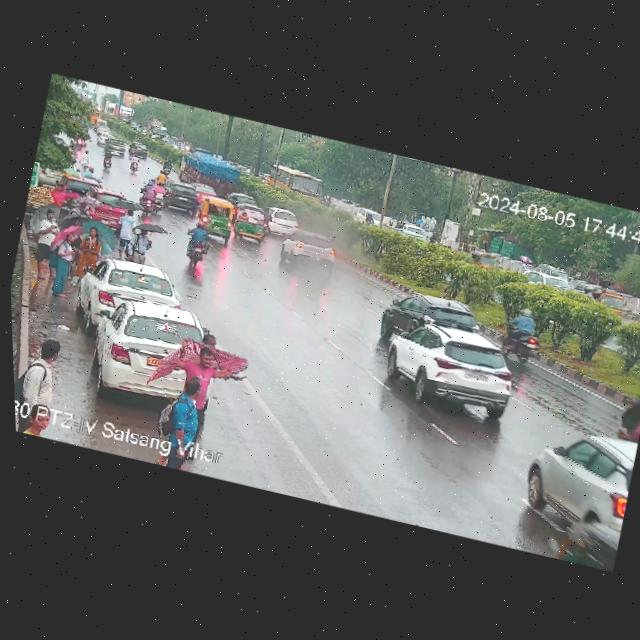bus: (267, 163, 326, 200)
car: (369, 312, 529, 428), (512, 415, 640, 538), (79, 293, 204, 404), (370, 283, 498, 359), (78, 250, 184, 330), (270, 224, 341, 273), (193, 192, 247, 241), (76, 185, 137, 228), (574, 283, 627, 318), (230, 202, 267, 243), (163, 175, 201, 212), (264, 209, 303, 240), (466, 248, 501, 273), (102, 135, 127, 157), (95, 130, 114, 145)
motorcycle: (494, 302, 552, 362), (174, 220, 216, 269), (136, 175, 168, 218), (125, 138, 152, 161), (124, 152, 147, 176), (84, 166, 108, 186), (100, 147, 116, 169), (161, 156, 173, 174), (156, 166, 167, 183)
person: (154, 368, 209, 471), (14, 333, 70, 413), (175, 342, 234, 406), (25, 205, 67, 280), (66, 224, 104, 296), (47, 228, 80, 300), (112, 204, 141, 258), (23, 404, 61, 440), (127, 225, 154, 264), (48, 182, 70, 204), (77, 147, 92, 175), (201, 332, 221, 349)
truck: (178, 141, 248, 197), (112, 102, 136, 125), (146, 121, 168, 142)
